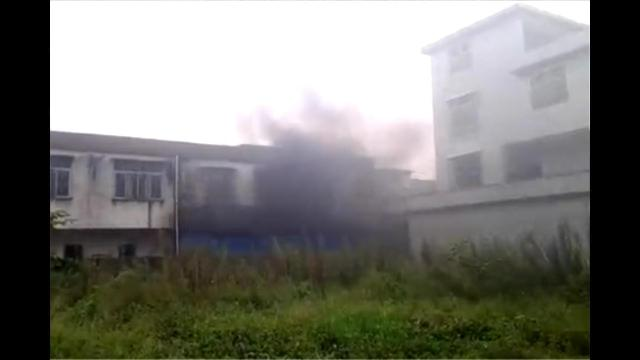smoke: (267, 103, 363, 204), (382, 122, 420, 166)
